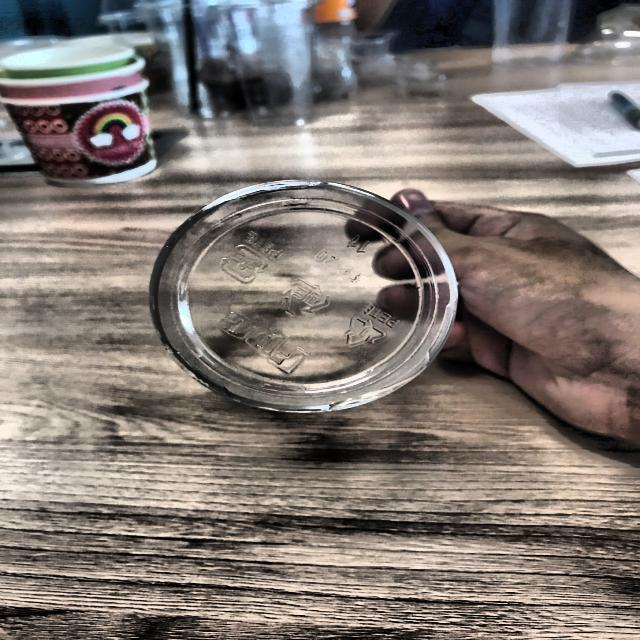plastic cup: (126, 165, 472, 446)
